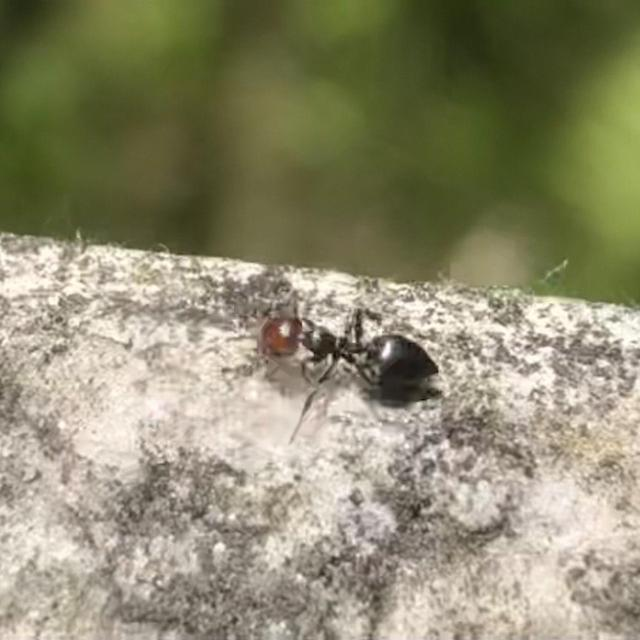Crematogaster: (244, 296, 453, 406)
